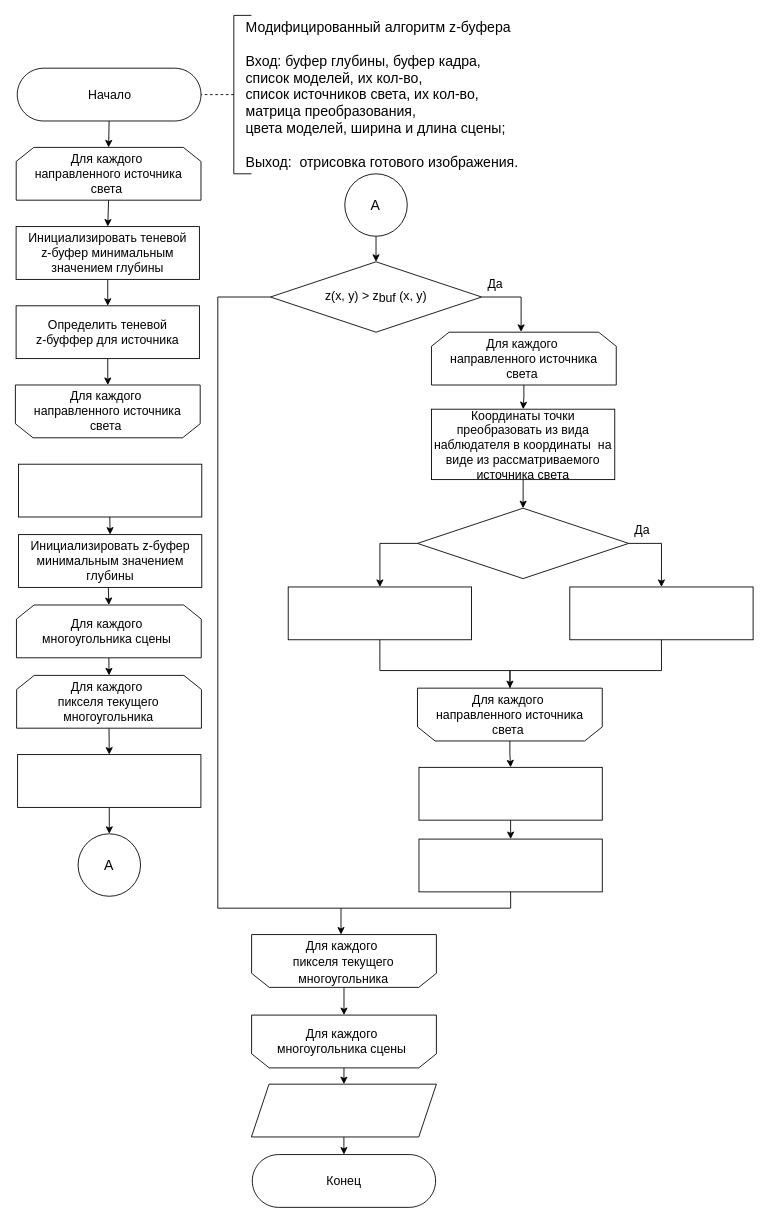
The diagram is 769 pixels wide and 1223 high, and some of its shapes have lost their labels. Here are the shapes that lost their labels. From the top down, the box of each, then its label:
(18, 463, 202, 517): Всем элементам буфера кадра присвоить фоновое значение
(417, 507, 629, 579): z0 ( x0 , y0 ) < z shadowBuf ( x0 , y0 )
(287, 586, 472, 640): visible = 0
(569, 586, 753, 640): visible = 1
(17, 754, 201, 807): Вы числить глубину пикселя z ( x, y )
(418, 766, 602, 820): z buf (x, y) = z(x, y)
(418, 838, 602, 892): colour(x, y) = specColour + visible
(251, 1083, 436, 1137): Вывести итоговое изображение
